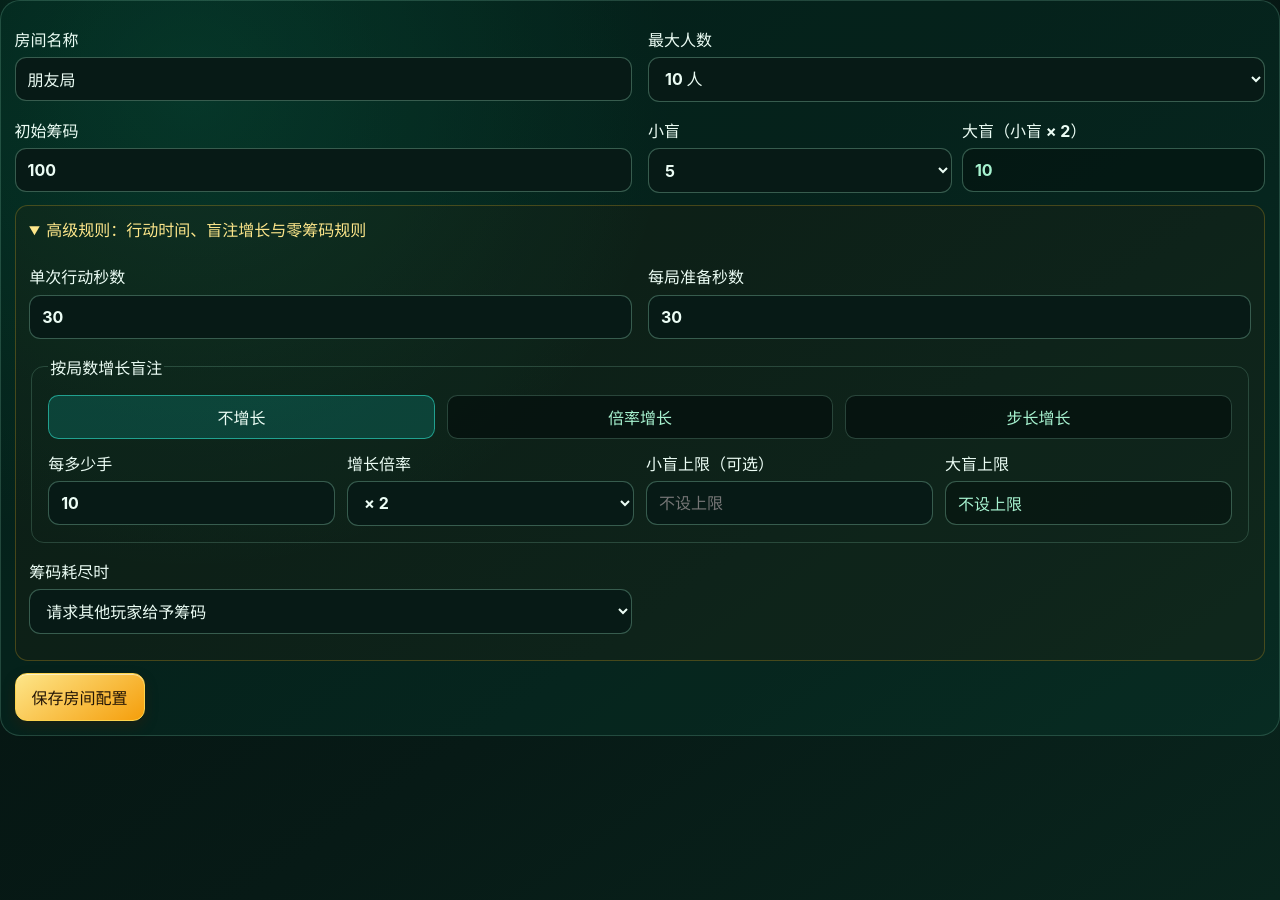
it: RoomSettingsEditor › normalizes below-minimum growth values when editing finishes
Click the tab "步长增长" at (1039, 417), box 845,395 -> 1232,439
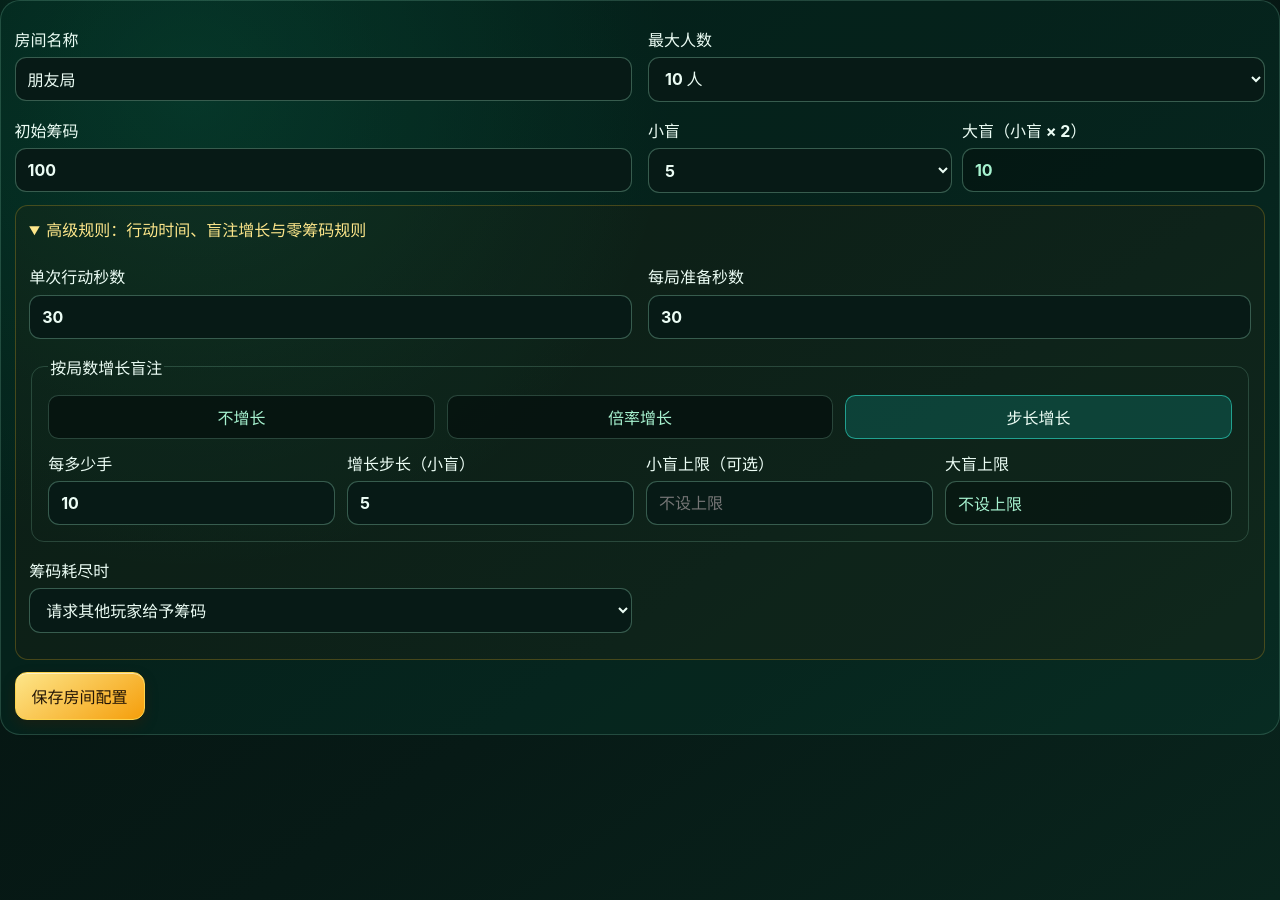
Replace the text in the number field labelled "增长步长（小盲）" with "2" at (491, 503), box 347,481 -> 634,525
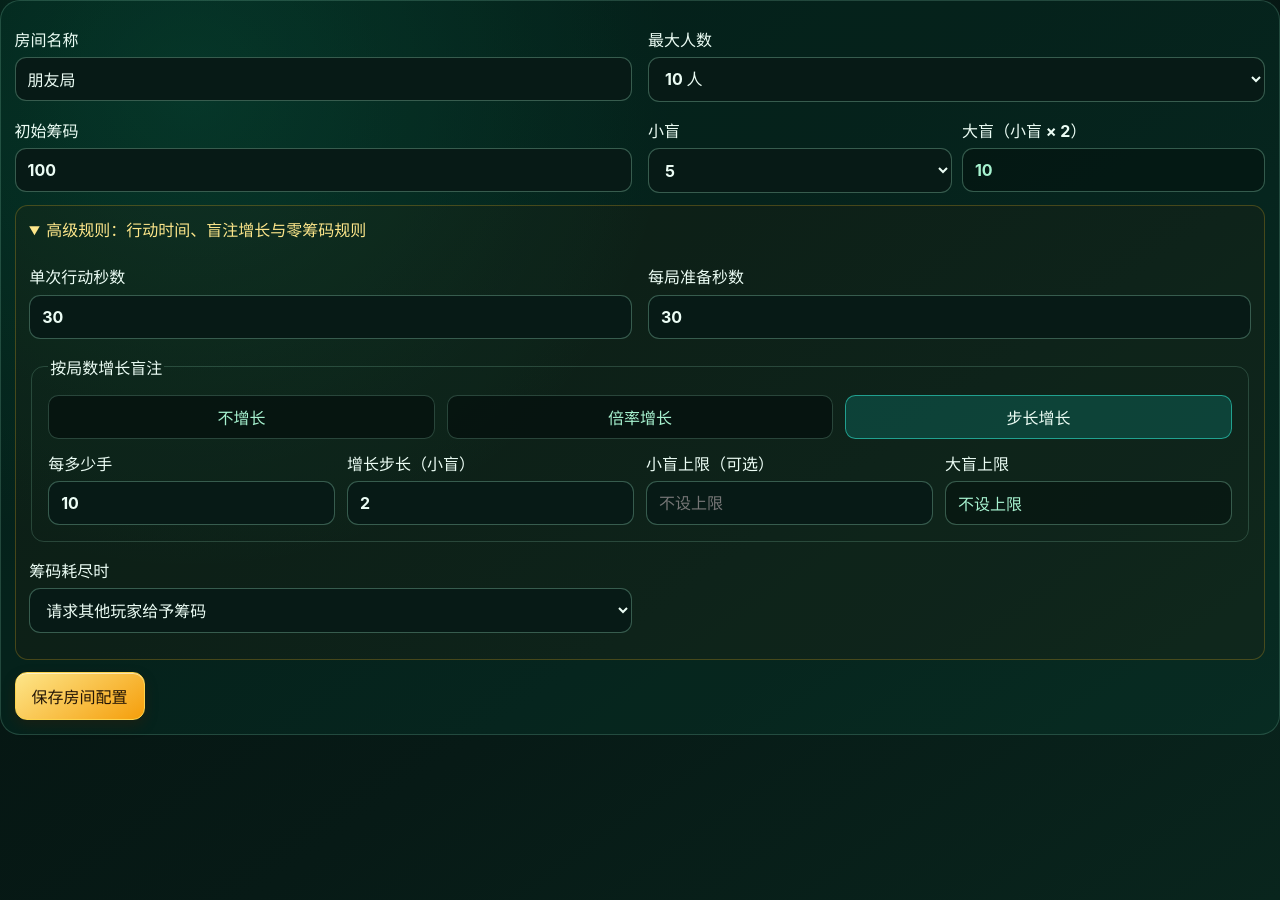
Type "2" into the number field labelled "小盲上限（可选）" at (789, 503), box 646,481 -> 933,525
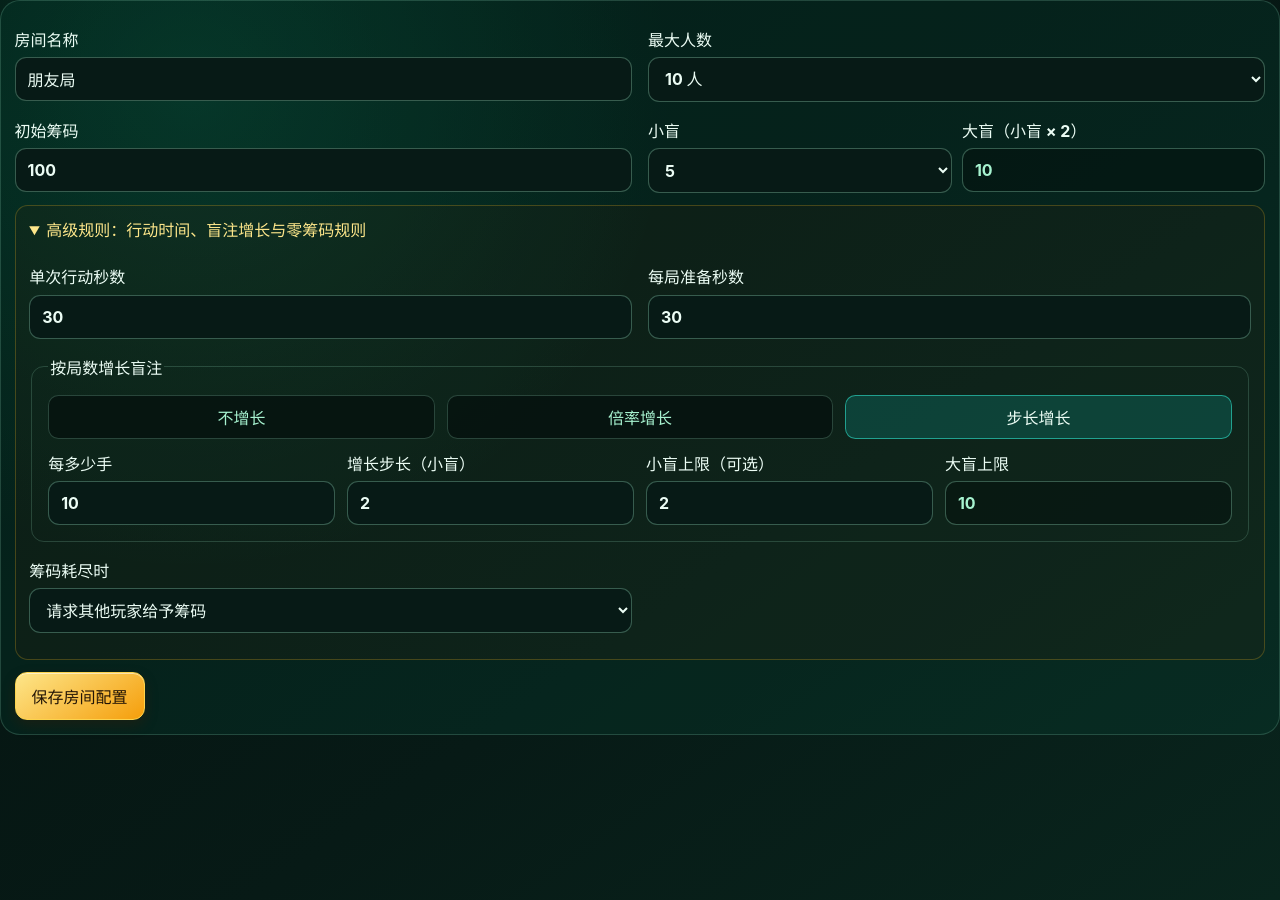
Leave the number field labelled "增长步长（小盲）", box 347,481 -> 634,525
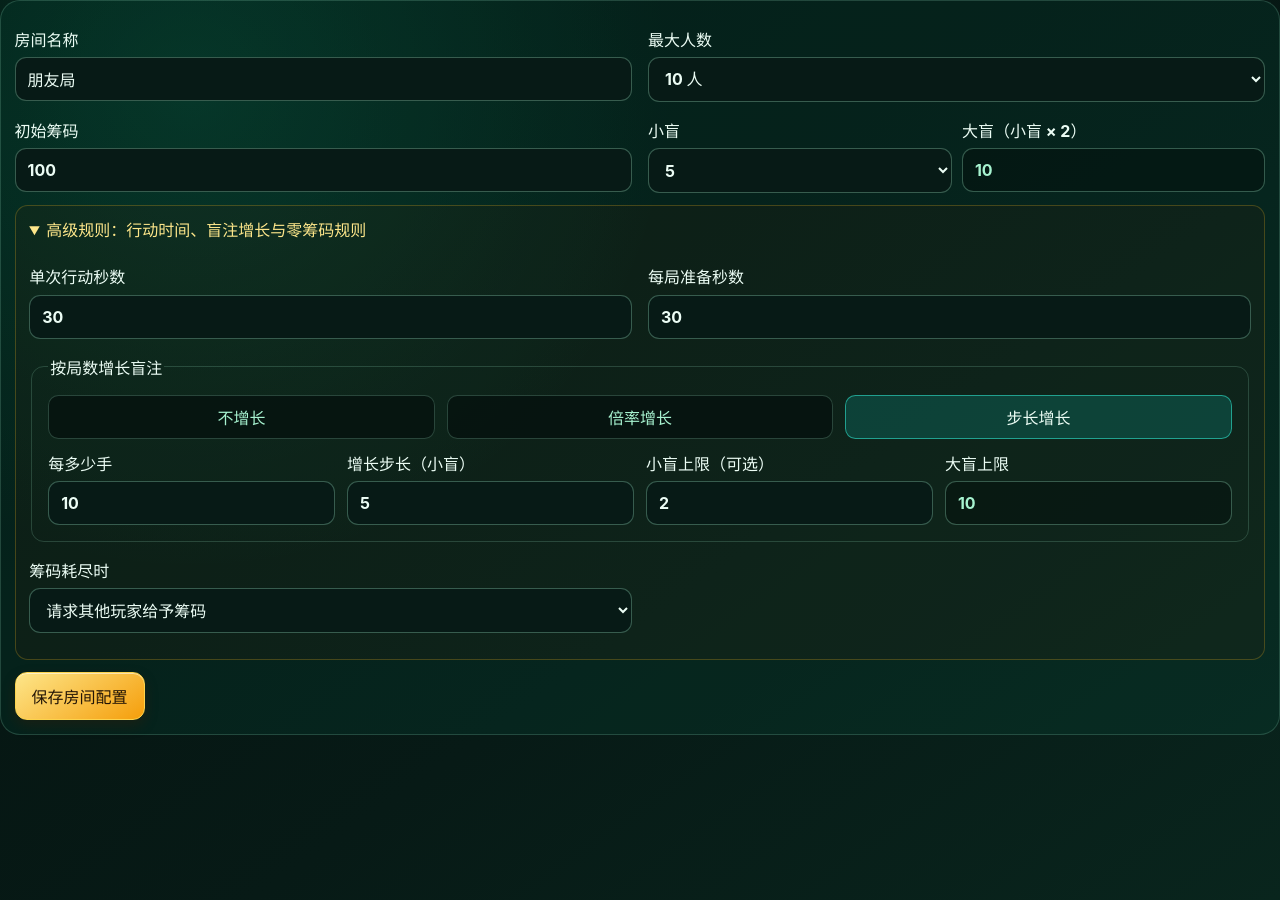
Leave the number field labelled "小盲上限（可选）", box 646,481 -> 933,525
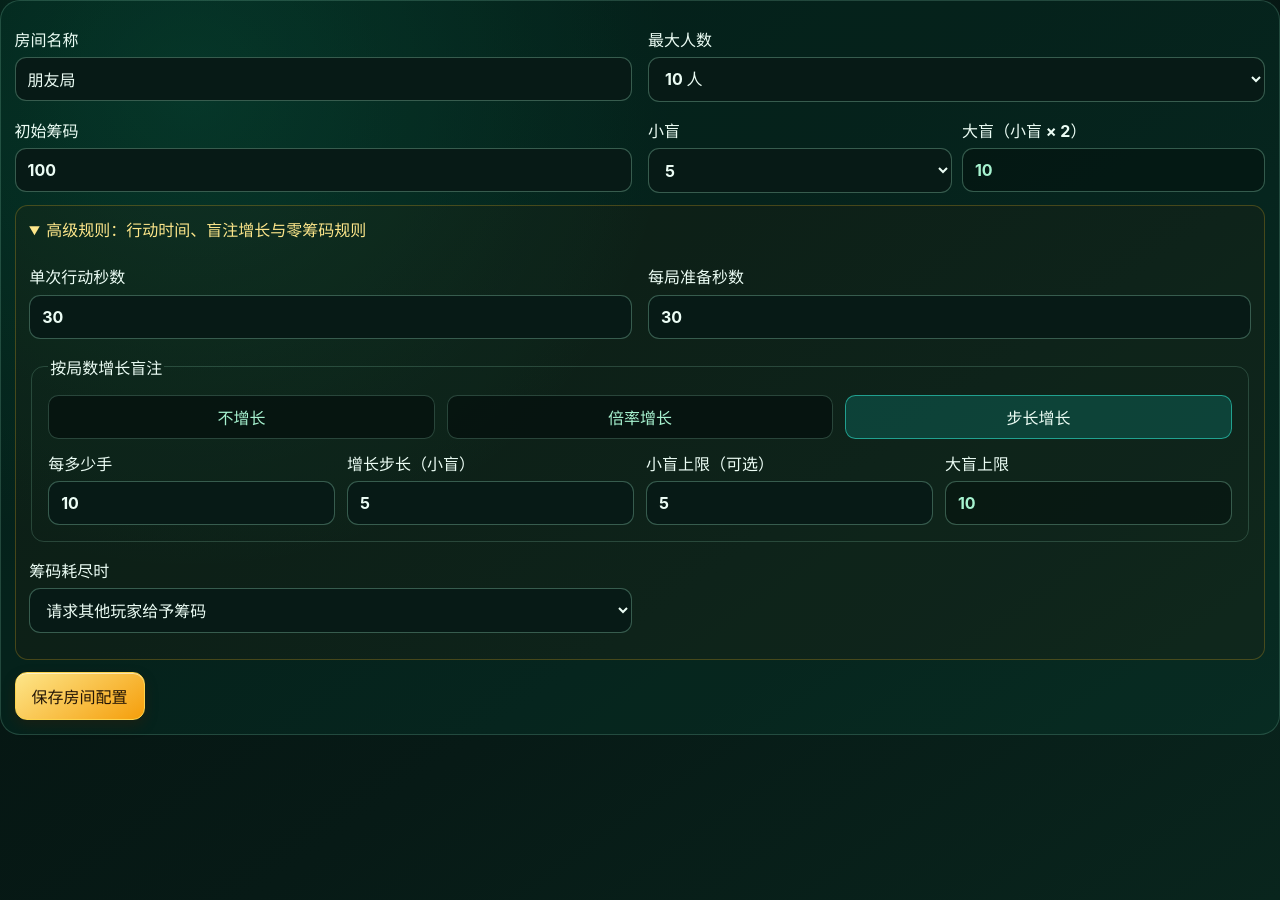
Check: the number field labelled "增长步长（小盲）" holds "5", box 347,481 -> 634,525
Check: the number field labelled "小盲上限（可选）" holds "5", box 646,481 -> 933,525
